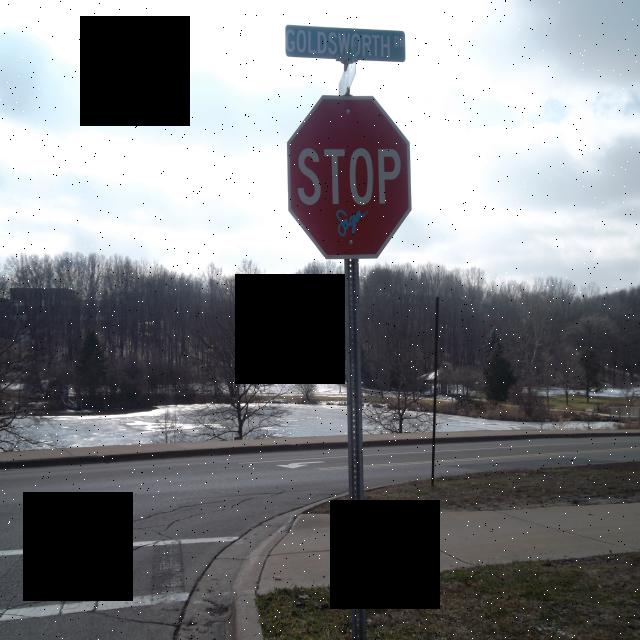stop: (286, 94, 414, 262)
